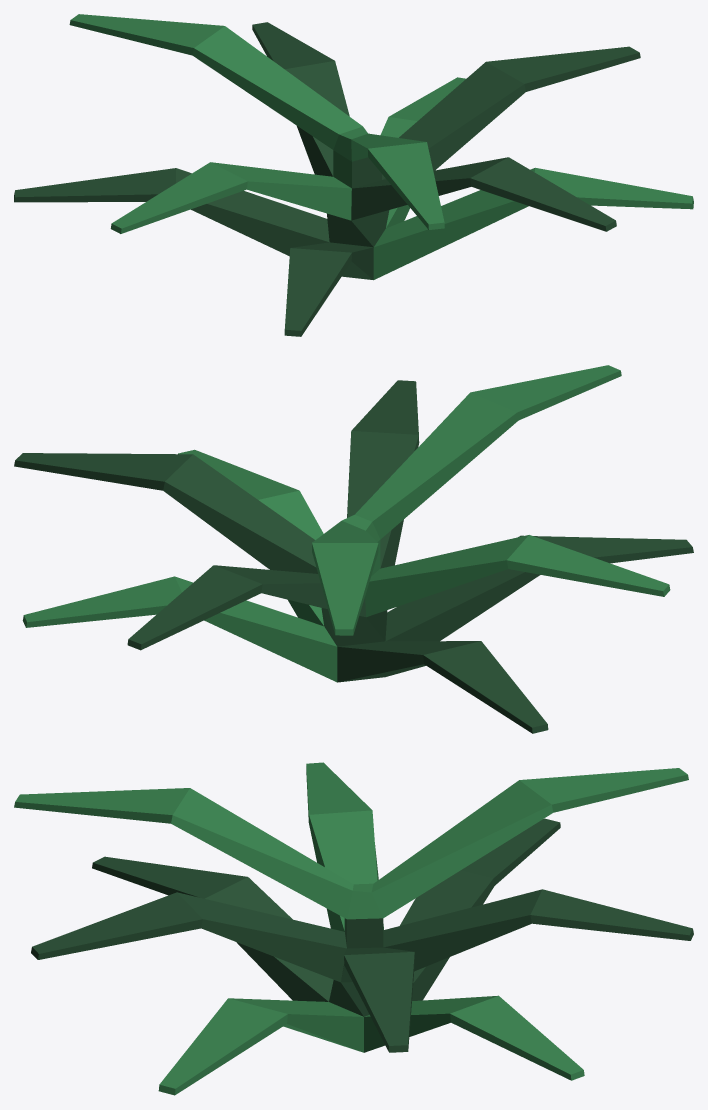
Rendered from Fern.fbx.
The picture shows the model from 3 angles, top to bottom: view 1: azimuth 30°, elevation 25°; view 2: azimuth 150°, elevation 25°; view 3: azimuth 270°, elevation 25°; orthographic projection. The views are drawn at different scales.
Visible parts, largest first — view 1: Fern; view 2: Fern; view 3: Fern.
Boxes of the visible parts, box(x1,y1,x2,y2) form: Fern: box(14, 14, 693, 336); Fern: box(14, 365, 693, 733); Fern: box(14, 762, 693, 1095).
Bounding box in the file's own units: 129 × 42.99 × 124.
